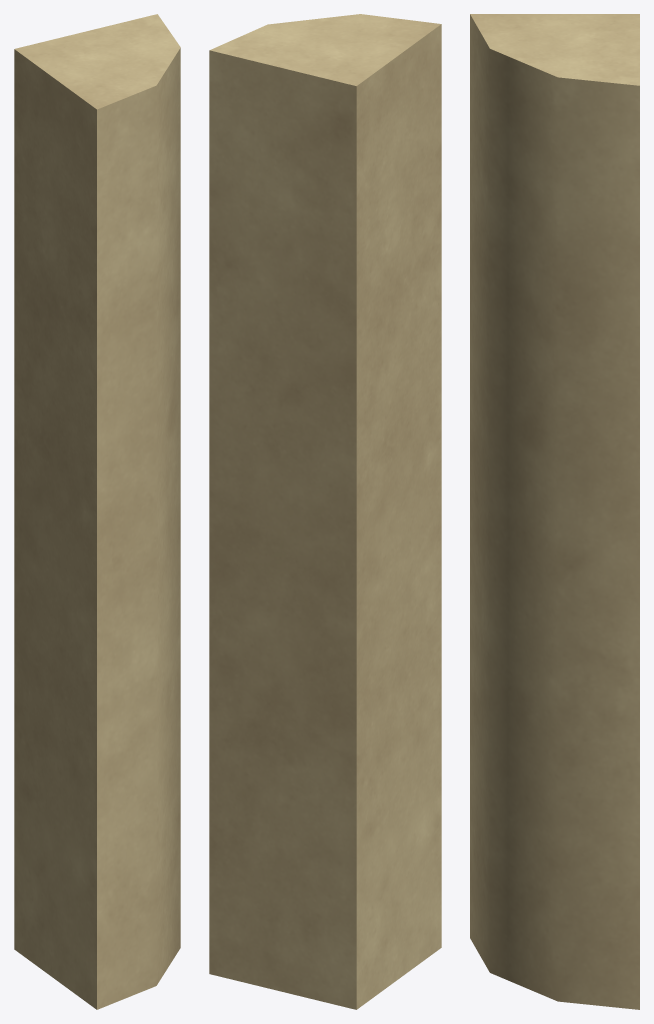
Rendered from sm_cornersmall.fbx.
The picture shows the model from 3 angles, left to right: view 1: azimuth 30°, elevation 25°; view 2: azimuth 150°, elevation 25°; view 3: azimuth 270°, elevation 25°; orthographic projection. The views are drawn at different scales.
Parts seen in each view (by area): view 1: Wall_CornerSmall; view 2: Wall_CornerSmall; view 3: Wall_CornerSmall.
Part boxes in pixels (x1,y1,x2,y2): Wall_CornerSmall: (14, 14, 180, 1009); Wall_CornerSmall: (209, 14, 441, 1009); Wall_CornerSmall: (470, 14, 639, 1009).
Bounding box in the file's own units: 0.5 × 3 × 0.5.
